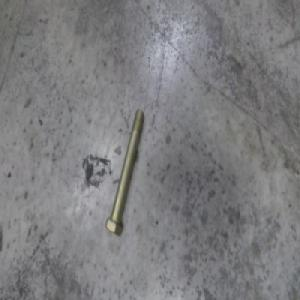Bolt: (106, 115, 145, 243)
